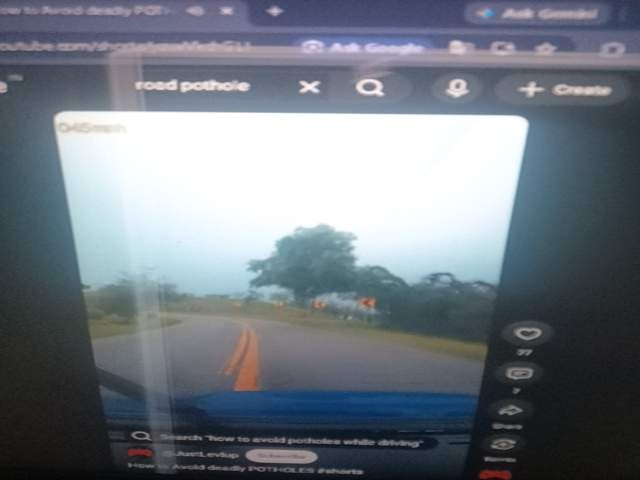pothole: (538, 403, 640, 480)
